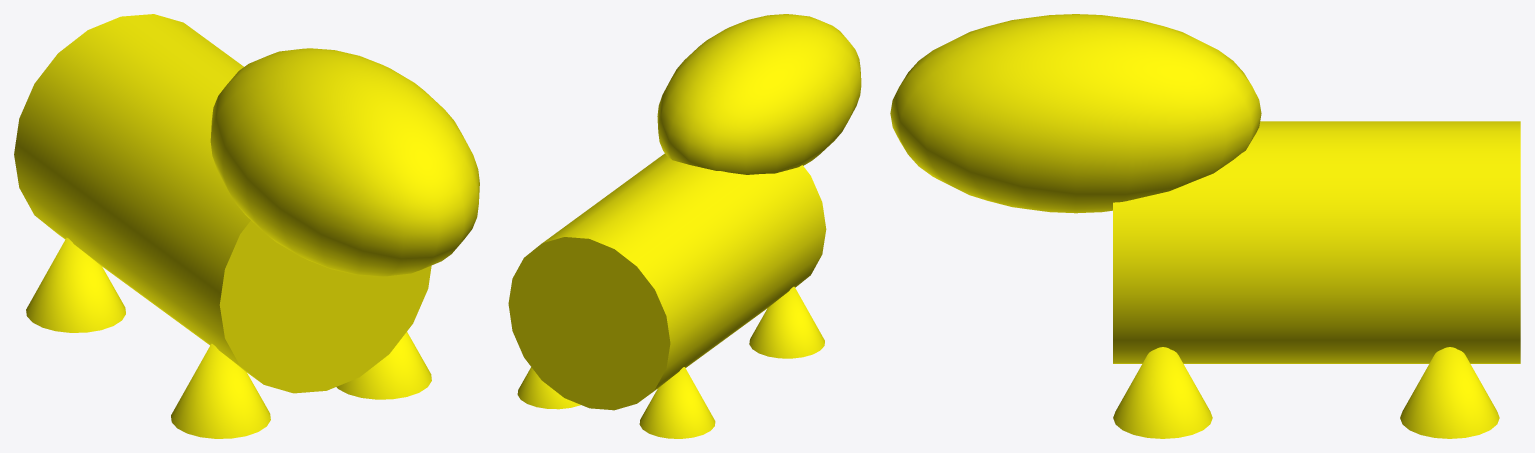
File: Beast.fbx
3 renders of one model, left to right at view 1: azimuth 30°, elevation 25°; view 2: azimuth 150°, elevation 25°; view 3: azimuth 270°, elevation 25°, orthographic. The views are drawn at different scales.
Parts seen in each view (by area): view 1: pCylinder2; view 2: pCylinder2; view 3: pCylinder2.
Boxes of the visible parts, x1,y1,x2,y2 form: pCylinder2: (14,14,479,438); pCylinder2: (508,14,861,438); pCylinder2: (890,14,1520,438).
Bounding box in the file's own units: 0.646 × 0.886 × 1.43.
